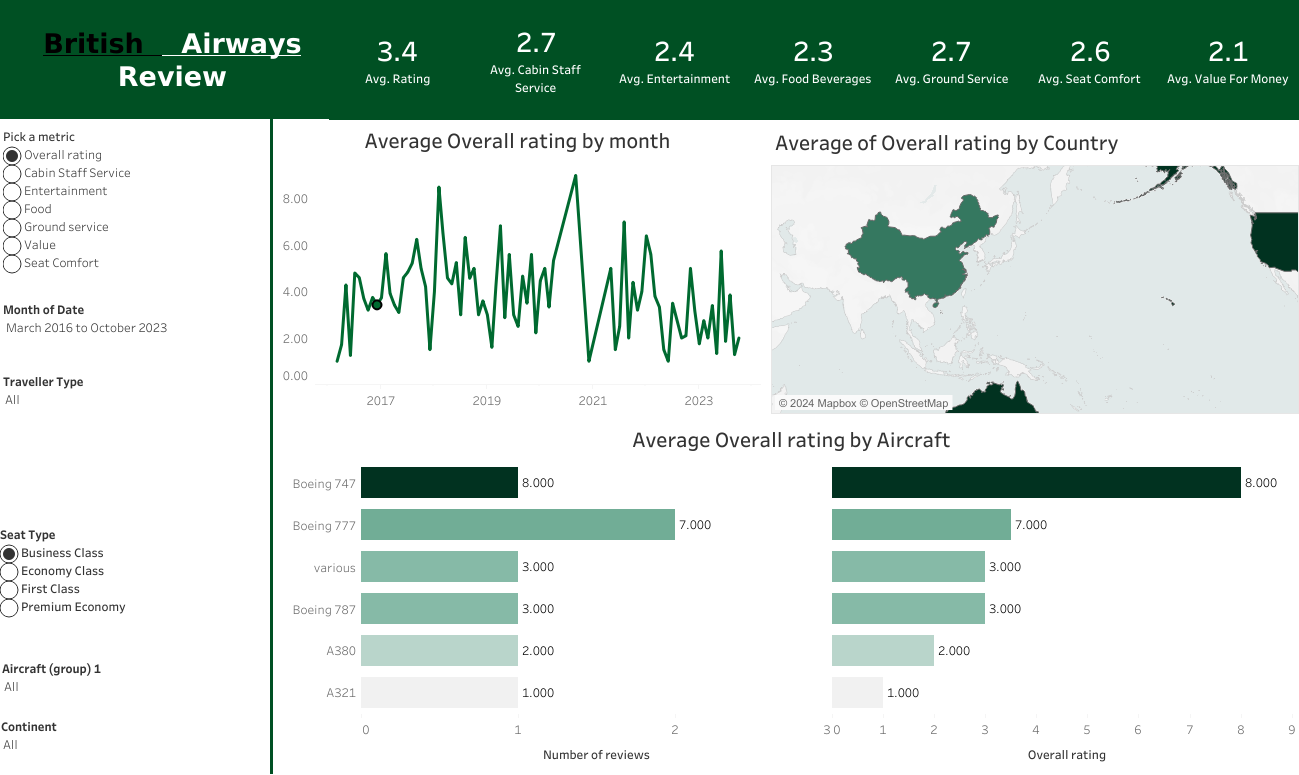

What the dashboard file says about the page in this screenshot:
{"tool":"tableau","page":{"name":"Dashboard 1","canvas":[1000,1000],"units":"permille","ordinal":0},"visuals":[{"type":"worksheet","title":"Summary","mark":"Automatic","box":[253.1,0,746.1,152.7]},{"type":"blank","box":[207.7,153.8,2.3,843.9]},{"type":"worksheet","title":"Month","mark":"Automatic","rows":["Calculation_1172343286536593408"],"cols":["date"],"box":[211.5,155.2,373.1,378.1]},{"type":"worksheet","title":"Map","mark":"Multipolygon","box":[593.1,157.3,406.2,375.6]},{"type":"filter","title":"Map","param":"[federated.04ae8o61xnykwl14o674004p6ljz].[none:traveller_type:nk]","box":[2.3,478.2,194.6,194.8]},{"type":"worksheet","title":"Aircraft","mark":"Automatic","cols":["ba_reviews.csv_D58AE4B51C524C2E9BA1CFA5B5BF6455","Calculation_1172343286536593408"],"box":[216.2,539.9,785.4,451.9]},{"type":"filter","title":"Map","param":"[federated.04ae8o61xnykwl14o674004p6ljz].[none:seat_type:nk]","box":[0,675.3,200.8,167.7]},{"type":"filter","title":"Map","param":"[federated.04ae8o61xnykwl14o674004p6ljz].[Aircraft (group) 1]","box":[1.5,847.4,193.8,63.4]},{"type":"filter","title":"Map","param":"[federated.04ae8o61xnykwl14o674004p6ljz].[none:Continent:nk]","box":[0.8,922.5,194.6,62.2]}]}

Visuals, with their boxes on the dashboard's canvas, which has no fixed pixel size, in thousandths of its width and height (x1, y1, x2, y2). These are canvas units, not pixel positions in the 1299x775 screenshot, which may show the page scaled, cropped or inside an application window:
"Summary" worksheet: BBox(253, 0, 999, 153)
blank: BBox(208, 154, 210, 998)
"Month" worksheet: BBox(212, 155, 585, 533)
"Map" worksheet (Multipolygon marks): BBox(593, 157, 999, 533)
"Map" filter: BBox(2, 478, 197, 673)
"Aircraft" worksheet: BBox(216, 540, 1002, 992)
"Map" filter: BBox(0, 675, 201, 843)
"Map" filter: BBox(2, 847, 195, 911)
"Map" filter: BBox(1, 922, 195, 985)
